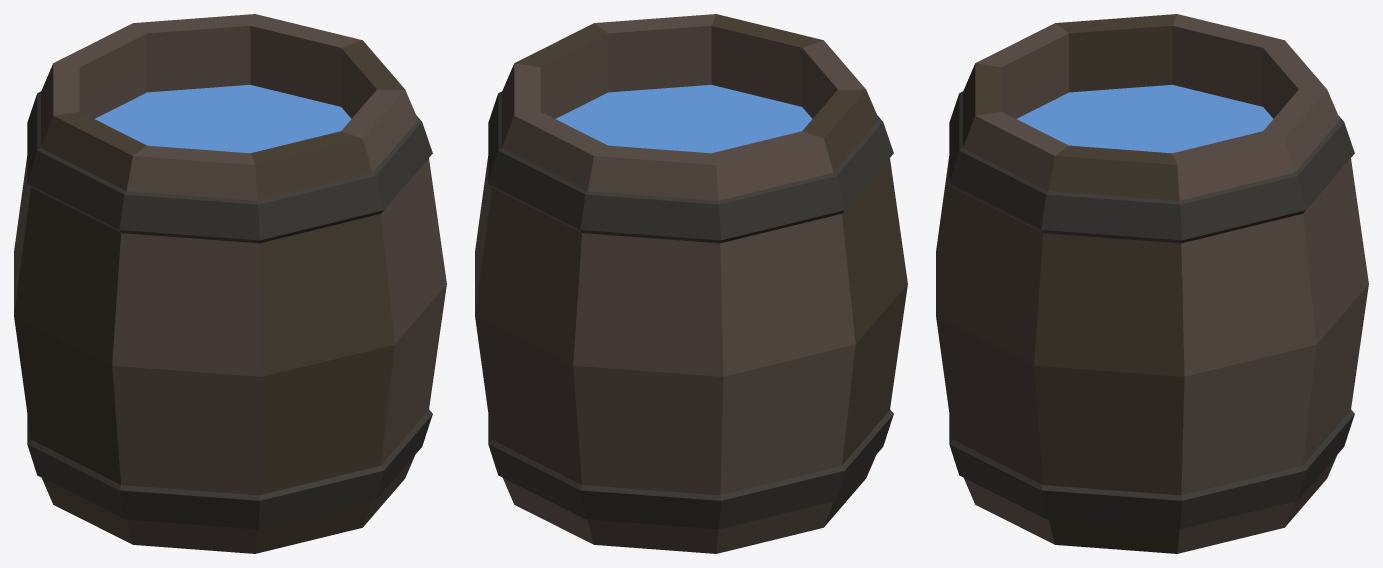
File: Barrel.fbx
The picture shows the model from 3 angles, left to right: view 1: azimuth 30°, elevation 25°; view 2: azimuth 150°, elevation 25°; view 3: azimuth 270°, elevation 25°; orthographic projection.
Visible parts, largest first — view 1: barrel_water; view 2: barrel_water; view 3: barrel_water.
Part boxes in pixels (bbox=[...]): barrel_water: bbox=[14, 14, 446, 553]; barrel_water: bbox=[475, 14, 907, 553]; barrel_water: bbox=[936, 14, 1368, 553].
Size of the model in its own units: 15.74 by 15.36 by 15.5.
